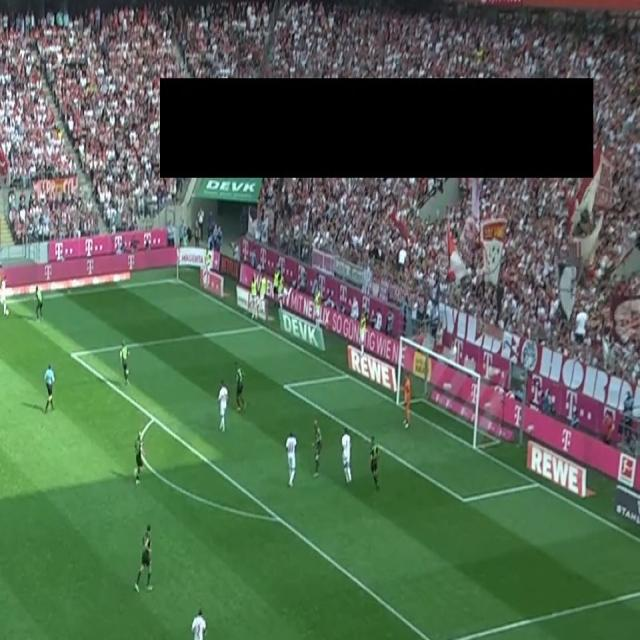ball: (5, 309, 9, 317)
